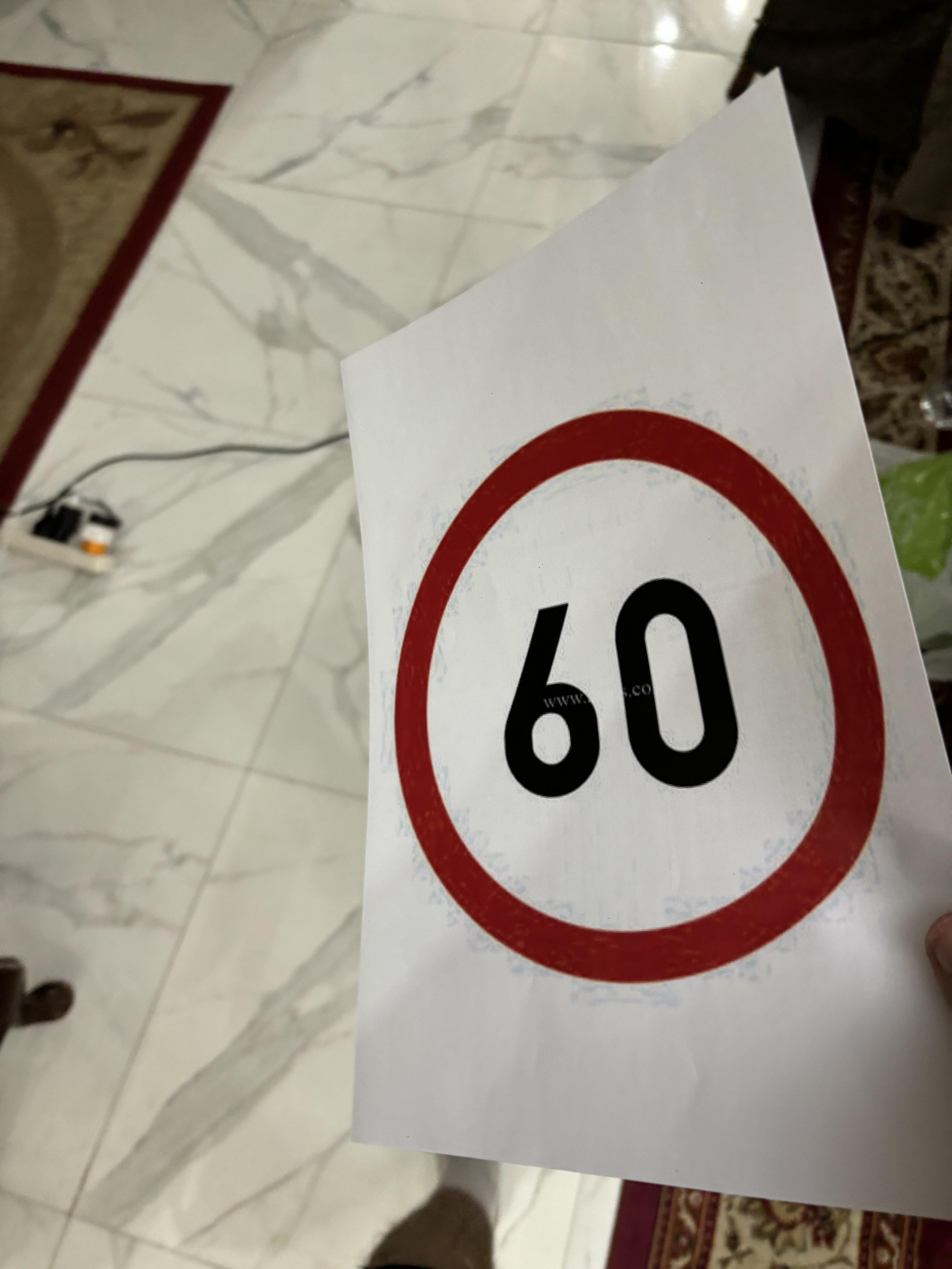60-Speed: (392, 403, 900, 986)
